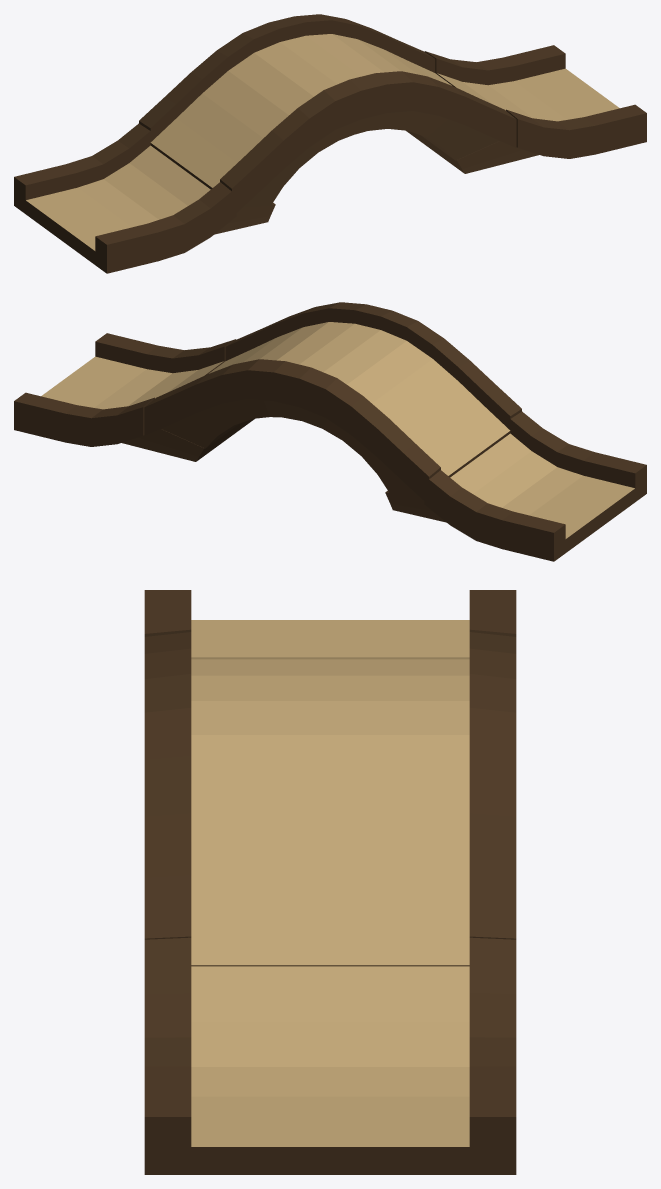
Rendered from Puente.fbx.
The picture shows the model from 3 angles, top to bottom: view 1: azimuth 30°, elevation 25°; view 2: azimuth 150°, elevation 25°; view 3: azimuth 270°, elevation 25°; orthographic projection. The views are drawn at different scales.
Visible parts, largest first — view 1: Plane, Plane.001, Plane.002; view 2: Plane, Plane.001, Plane.002; view 3: Plane, Plane.002, Plane.001.
Part boxes in pixels (bbox=[...]): Plane: bbox=[139, 14, 516, 216]; Plane.001: bbox=[14, 123, 275, 273]; Plane.002: bbox=[406, 45, 646, 173]; Plane: bbox=[144, 302, 521, 504]; Plane.001: bbox=[385, 411, 646, 561]; Plane.002: bbox=[14, 333, 254, 461]; Plane: bbox=[144, 629, 516, 966]; Plane.002: bbox=[144, 937, 516, 1174]; Plane.001: bbox=[144, 590, 516, 657].
Size of the model in its own units: 3.97 by 0.869 by 1.18.
